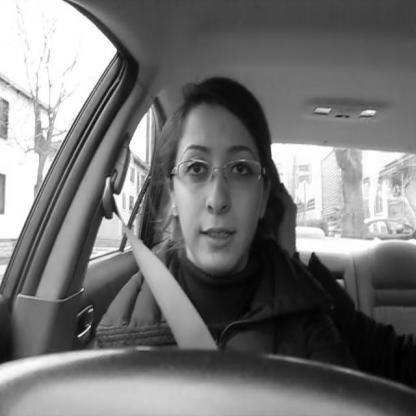seatbelt: (92, 0, 296, 416)
